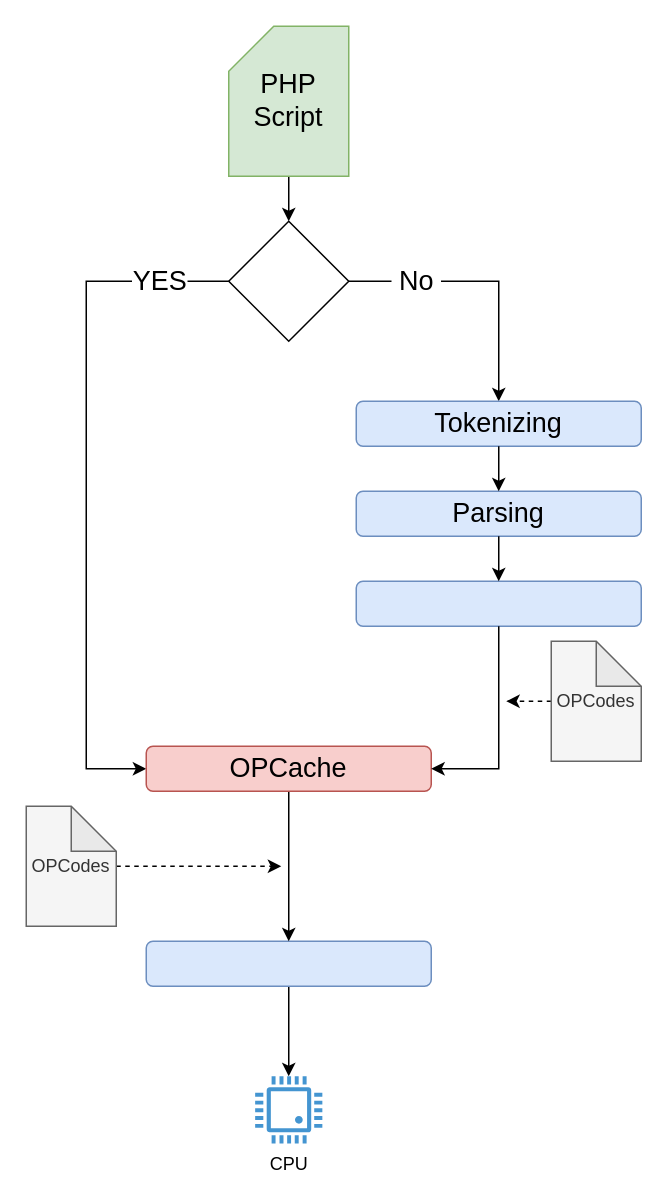
Image size: 668x1202. Some labels were removed from this diagram. The shapes that lost their labels are listed below. From the top down, each one's centre as x and y in pixels, then its label:
point (288, 280): In Cache
point (498, 603): Compilation
point (288, 963): Execution
